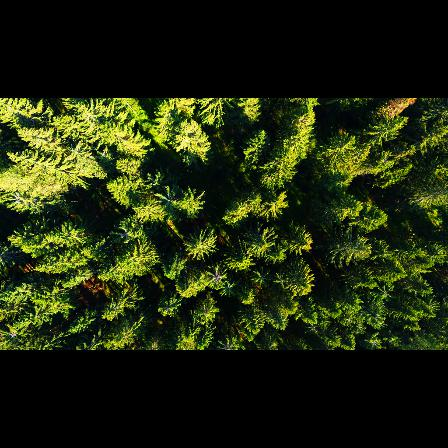Sick: (153, 182, 185, 217), (108, 217, 142, 249), (203, 262, 229, 290), (299, 316, 326, 338), (252, 265, 275, 287), (375, 284, 397, 302)
